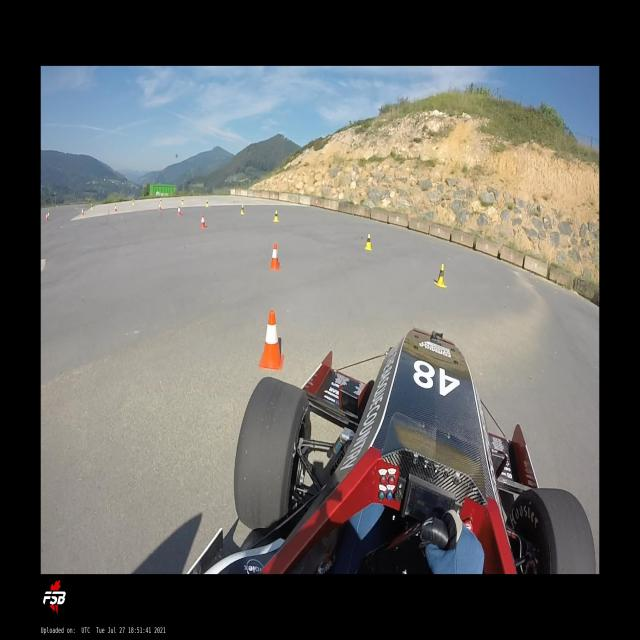orange_cone: (258, 310, 285, 370), (270, 242, 280, 270), (200, 215, 206, 228), (178, 206, 181, 217), (114, 205, 117, 212), (81, 209, 84, 215), (159, 203, 161, 210), (46, 214, 48, 221)
yellow_cone: (434, 263, 446, 288), (365, 234, 372, 250), (273, 210, 279, 222), (241, 204, 244, 215), (47, 208, 50, 216), (182, 197, 184, 205), (206, 200, 208, 207), (132, 198, 134, 205), (91, 203, 93, 210), (160, 198, 161, 204)
